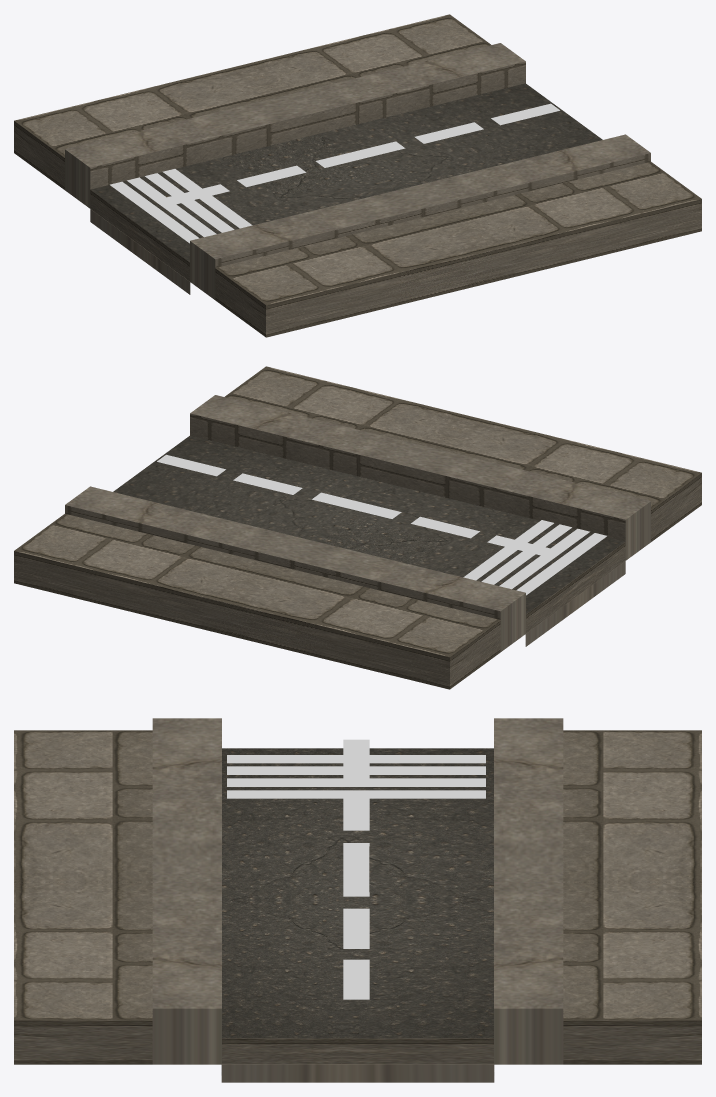
The model's file is Road_Horizontal.fbx.
3 renders of one model, top to bottom at view 1: azimuth 30°, elevation 25°; view 2: azimuth 150°, elevation 25°; view 3: azimuth 270°, elevation 25°, orthographic. The views are drawn at different scales.
Visible parts, largest first — view 1: Cube.001, Plane, Plane.004; view 2: Cube.001, Plane, Plane.004; view 3: Cube.001, Plane, Plane.004.
Part boxes in pixels (left/top/right/bottom): Cube.001: left=14, top=14, right=701, bottom=337; Plane: left=110, top=169, right=252, bottom=243; Plane.004: left=161, top=103, right=559, bottom=205; Cube.001: left=14, top=366, right=701, bottom=689; Plane: left=463, top=520, right=606, bottom=595; Plane.004: left=157, top=454, right=556, bottom=556; Cube.001: left=14, top=718, right=701, bottom=1082; Plane: left=227, top=755, right=485, bottom=798; Plane.004: left=343, top=739, right=369, bottom=999.
Size of the model in its own units: 375 by 44.68 by 376.
